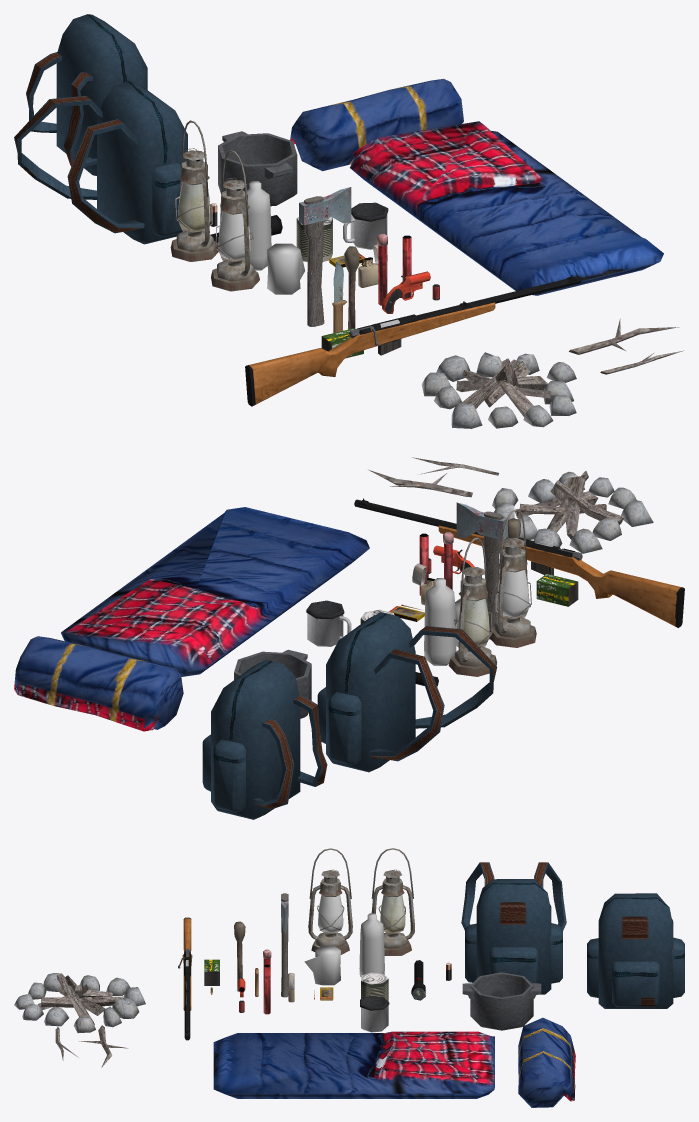
The model's file is Survival.fbx.
The picture shows the model from 3 angles, top to bottom: view 1: azimuth 30°, elevation 25°; view 2: azimuth 150°, elevation 25°; view 3: azimuth 270°, elevation 25°; orthographic projection. The views are drawn at different scales.
Parts seen in each view (by area): view 1: sleeping_bag, Backpack, sleeping_bag_01, Backpack.001, bonfire, hunting_rifle, Casserole, Farol, Axe, Farol_G, Water, band (+9 smaller); view 2: sleeping_bag, Backpack, Backpack.001, sleeping_bag_01, bonfire, hunting_rifle, Farol, Axe, Farol_G, Water, Cup, Casserole (+3 smaller); view 3: sleeping_bag, Backpack, Backpack.001, bonfire, sleeping_bag_01, Casserole, Farol, Farol_G, Water, band, hunting_rifle, Cup (+6 smaller).
Boxes of the visible parts, x1=… form: sleeping_bag: x1=350, y1=121, x2=663, y2=295; Backpack: x1=14, y1=81, x2=187, y2=244; sleeping_bag_01: x1=290, y1=78, x2=463, y2=171; Backpack.001: x1=26, y1=14, x2=147, y2=175; bonfire: x1=421, y1=352, x2=576, y2=428; hunting_rifle: x1=245, y1=275, x2=581, y2=406; Casserole: x1=218, y1=131, x2=297, y2=206; Farol: x1=170, y1=148, x2=218, y2=261; Axe: x1=299, y1=187, x2=351, y2=326; Farol_G: x1=211, y1=178, x2=259, y2=291; Water: x1=247, y1=181, x2=271, y2=270; band: x1=267, y1=243, x2=304, y2=294; sleeping_bag: x1=61, y1=507, x2=369, y2=676; Backpack: x1=317, y1=612, x2=497, y2=772; Backpack.001: x1=202, y1=659, x2=327, y2=819; sleeping_bag_01: x1=14, y1=636, x2=183, y2=731; bonfire: x1=492, y1=471, x2=653, y2=553; hunting_rifle: x1=354, y1=498, x2=684, y2=627; Farol: x1=448, y1=567, x2=497, y2=676; Axe: x1=456, y1=502, x2=507, y2=639; Farol_G: x1=489, y1=538, x2=536, y2=647; Water: x1=424, y1=578, x2=456, y2=665; Cup: x1=306, y1=600, x2=351, y2=646; Casserole: x1=234, y1=649, x2=311, y2=718; sleeping_bag: x1=213, y1=1031, x2=494, y2=1098; Backpack: x1=461, y1=862, x2=566, y2=994; Backpack.001: x1=587, y1=893, x2=684, y2=1008; bonfire: x1=14, y1=973, x2=145, y2=1033; sleeping_bag_01: x1=518, y1=1017, x2=575, y2=1107; Casserole: x1=462, y1=972, x2=541, y2=1030; Farol: x1=371, y1=869, x2=414, y2=955; Farol_G: x1=308, y1=869, x2=352, y2=954; Water: x1=359, y1=913, x2=384, y2=976; band: x1=304, y1=945, x2=340, y2=985; hunting_rifle: x1=178, y1=917, x2=192, y2=1040; Cup: x1=360, y1=996, x2=389, y2=1032.
Bounding box in the file's own units: 274 × 102 × 467.
